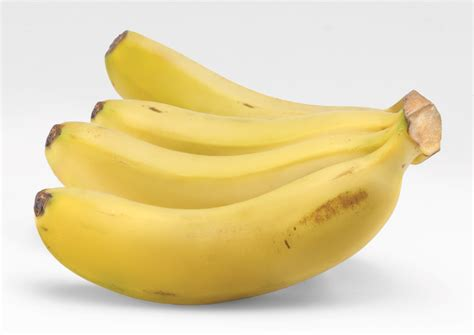banana: (33, 153, 410, 309), (40, 122, 412, 209)
